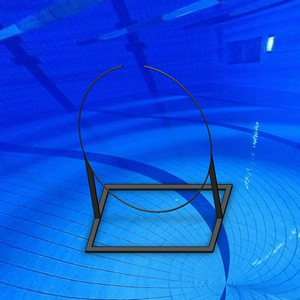circle: (77, 64, 233, 254)
